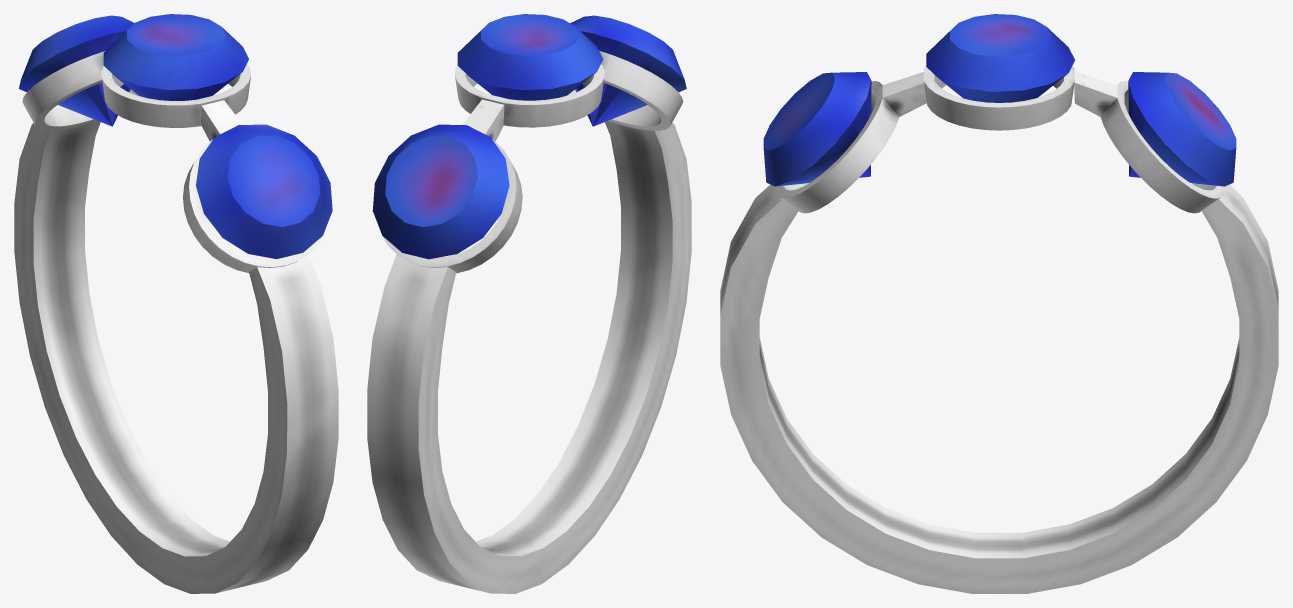
The model's file is SM_Ring_B_Silver.fbx.
3 renders of one model, left to right at view 1: azimuth 30°, elevation 25°; view 2: azimuth 150°, elevation 25°; view 3: azimuth 270°, elevation 25°, orthographic. The views are drawn at different scales.
Parts seen in each view (by area): view 1: SM_Ring_B_Silver_LOD0; view 2: SM_Ring_B_Silver_LOD0; view 3: SM_Ring_B_Silver_LOD0.
Part boxes in pixels (x1=…): SM_Ring_B_Silver_LOD0: x1=14, y1=14, x2=338, y2=593; SM_Ring_B_Silver_LOD0: x1=367, y1=14, x2=691, y2=593; SM_Ring_B_Silver_LOD0: x1=720, y1=14, x2=1278, y2=593.
Bounding box in the file's own units: 0.8258 × 3 × 3.23.
